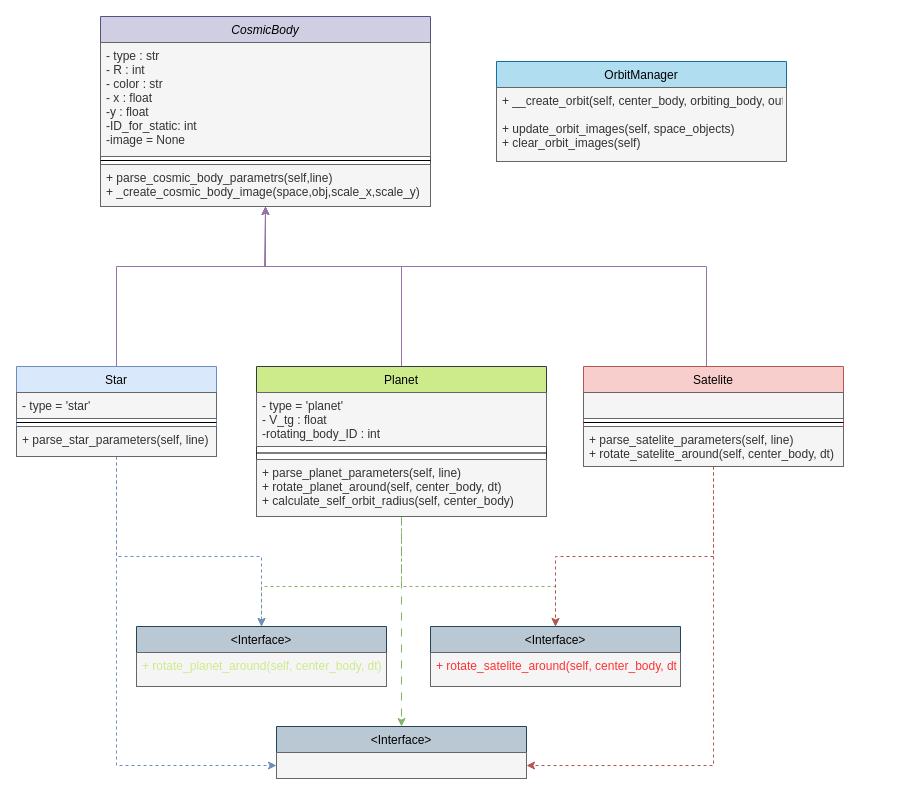
The diagram is 900 pixels wide and 795 high, and some of its shapes have lost their labels. The shapes that lost their labels are listed below. From the top down, each one's centre as x and y in pixels, then its label:
point 713,405: - type = 'satelite'
point 401,765: + update_orbit_images(self, space_objects)
